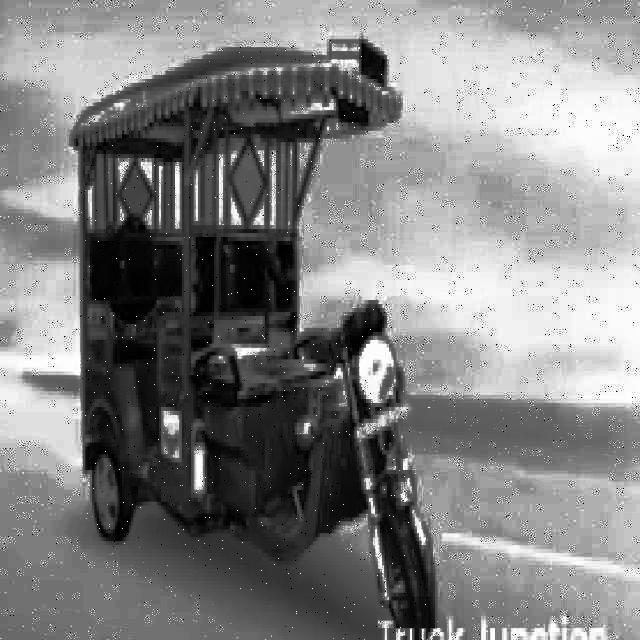Toto: (69, 35, 442, 640)
